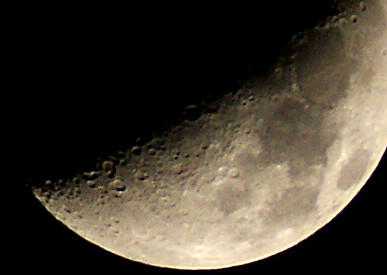crater: (225, 232, 261, 254), (178, 101, 205, 128), (106, 178, 132, 195), (197, 166, 220, 185), (227, 164, 247, 184), (179, 218, 196, 235), (129, 142, 145, 160), (197, 138, 214, 154), (346, 12, 360, 29), (107, 212, 127, 223), (245, 91, 260, 105), (127, 235, 143, 248), (270, 63, 283, 78), (269, 161, 286, 168), (193, 185, 203, 196), (162, 211, 174, 220)
